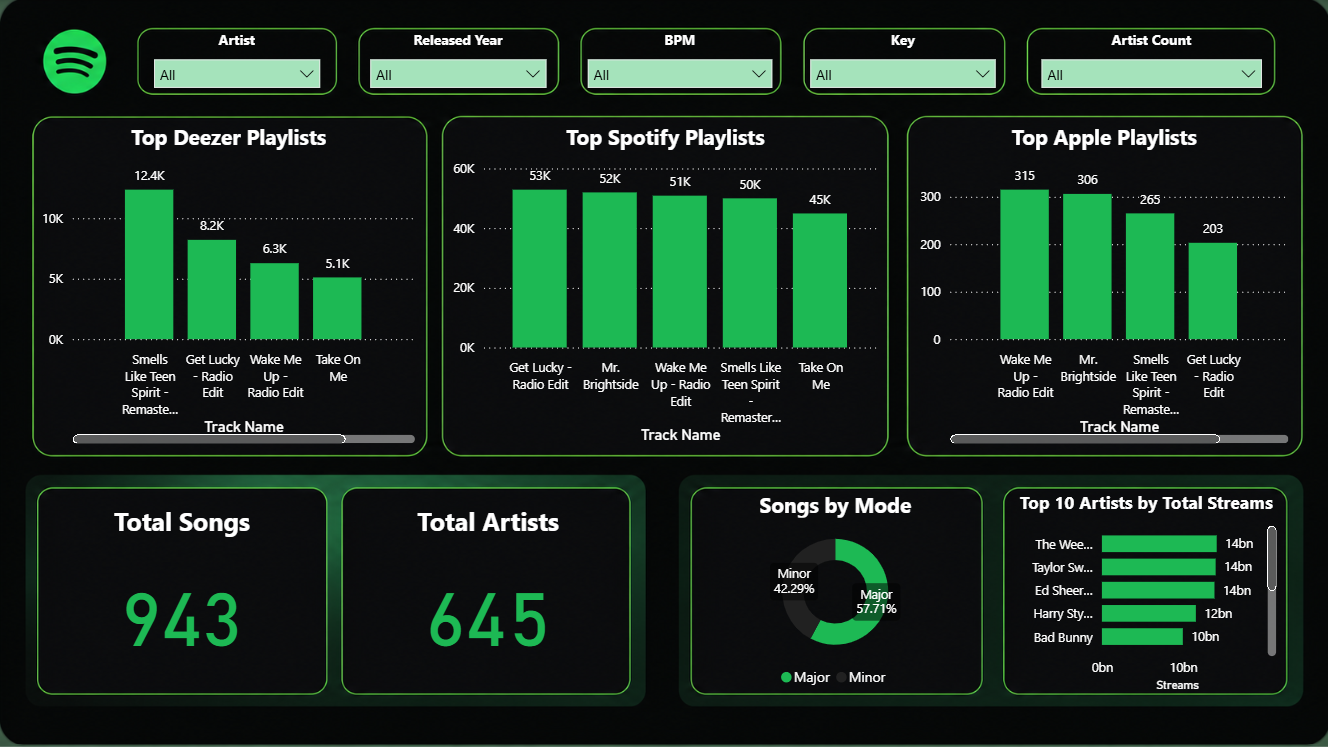

What the dashboard file says about the page in this screenshot:
{"tool":"powerbi","page":{"name":"DD","canvas":[1280,720],"ordinal":3},"visuals":[{"type":"slicer","title":"Artist","fields":{"Values":["Spotify Dataset.artist(s)_name"]},"box":[140.6,30,179.2,67.7],"z":0},{"type":"slicer","title":"Released Year","fields":{"Values":["Spotify Dataset.released_year"]},"box":[347.2,30,188.9,67.8],"z":1000},{"type":"slicer","title":"BPM","fields":{"Values":["Spotify Dataset.bpm"]},"box":[556.2,30,196.9,77.5],"z":2000},{"type":"slicer","title":"Key","fields":{"Values":["Spotify Dataset.key"]},"box":[770,30,198.1,78.8],"z":3000},{"type":"slicer","title":"Artist Count","fields":{"Values":["Spotify Dataset.artist_count"]},"box":[991.2,30,231.2,78.8],"z":4000},{"type":"cardVisual","title":"Total Songs","fields":{"Data":["Count(Spotify Dataset.track_name)"]},"box":[62.5,483.8,230,198],"z":5000},{"type":"cardVisual","title":"Total Artists","fields":{"Data":["Count(Spotify Dataset.artist(s)_name)"]},"box":[356.2,483.8,230,198],"z":6000},{"type":"clusteredColumnChart","title":"Top Deezer Playlists","fields":{"Category":["Spotify Dataset.track_name"],"Y":["Sum(Spotify Dataset.in_deezer_playlists)"]},"box":[38.8,118.8,367.5,312.5],"z":7000},{"type":"clusteredColumnChart","title":"Top Spotify Playlists","fields":{"Category":["Spotify Dataset.track_name"],"Y":["Sum(Spotify Dataset.in_spotify_playlists)"]},"box":[432.5,118.8,416.2,312.5],"z":8000},{"type":"clusteredColumnChart","title":"Top Apple Playlists","fields":{"Category":["Spotify Dataset.track_name"],"Y":["Sum(Spotify Dataset.in_apple_playlists)"]},"box":[880,118.8,363.8,312.5],"z":9000},{"type":"donutChart","title":"Songs by Mode","fields":{"Category":["Spotify Dataset.mode"],"Y":["CountNonNull(Spotify Dataset.mode)"]},"box":[672.7,470.9,263,198],"z":10000},{"type":"clusteredBarChart","title":"Top 10 Artists by Total Streams","fields":{"Category":["Spotify Dataset.artist(s)_name"],"Y":["Sum(Spotify Dataset.streams)"]},"box":[975,471,256,198],"z":11000}]}

Visuals, with their boxes in screenshot pixels (x1, y1, x2, y2), scaled from the page's 1280x720 canvas onto the 1328x747 screenshot:
"Artist" slicer: 146,31,332,101
"Released Year" slicer: 360,31,556,101
"BPM" slicer: 577,31,781,112
"Key" slicer: 799,31,1004,113
"Artist Count" slicer: 1028,31,1268,113
"Total Songs" cardVisual: 65,502,303,707
"Total Artists" cardVisual: 370,502,608,707
"Top Deezer Playlists" clusteredColumnChart: 40,123,422,447
"Top Spotify Playlists" clusteredColumnChart: 449,123,881,447
"Top Apple Playlists" clusteredColumnChart: 913,123,1290,447
"Songs by Mode" donutChart: 698,489,971,694
"Top 10 Artists by Total Streams" clusteredBarChart: 1012,489,1277,694
